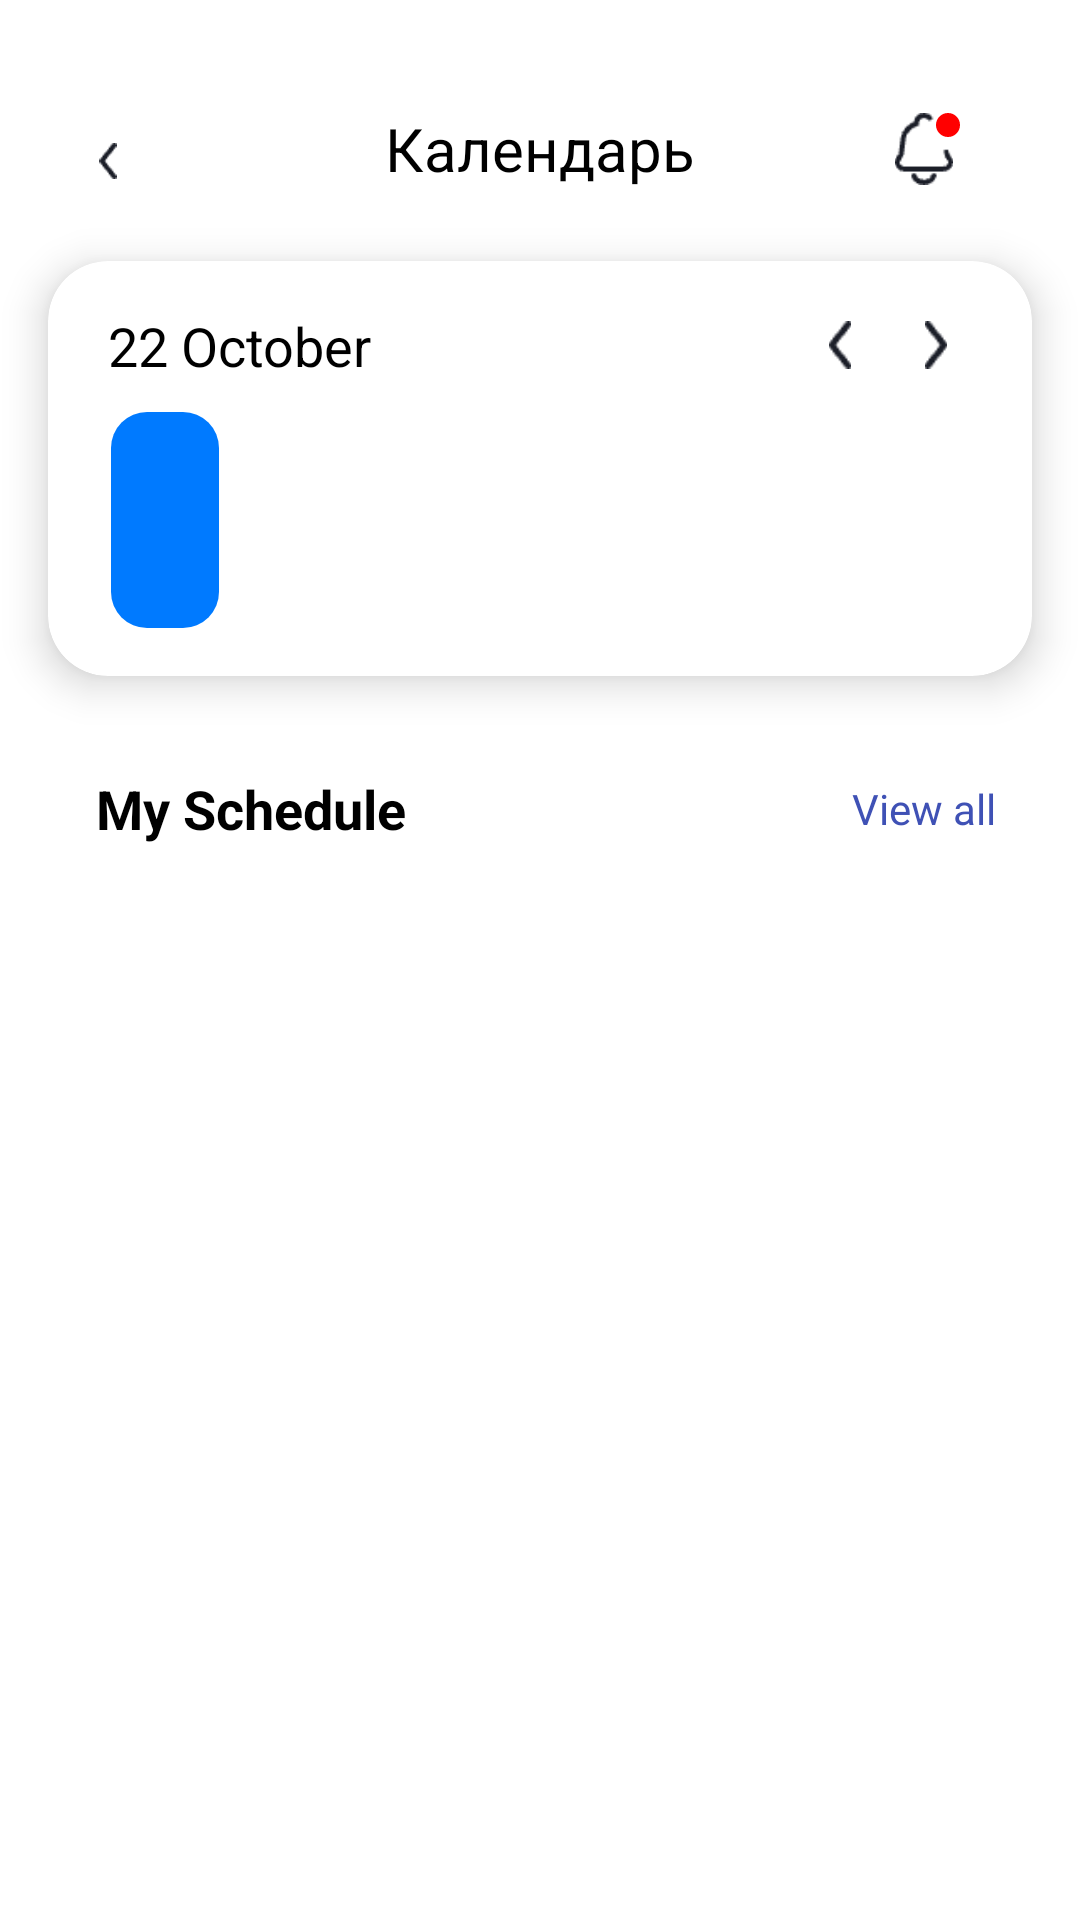

Icon bounding boxes for this 1080w x 1920h phone screenshot, format (x1, y1, x2, y2):
arrow right: (925, 321, 947, 369)
back arrow: (99, 143, 117, 179), (829, 321, 851, 369)
notification: (895, 113, 960, 185)
